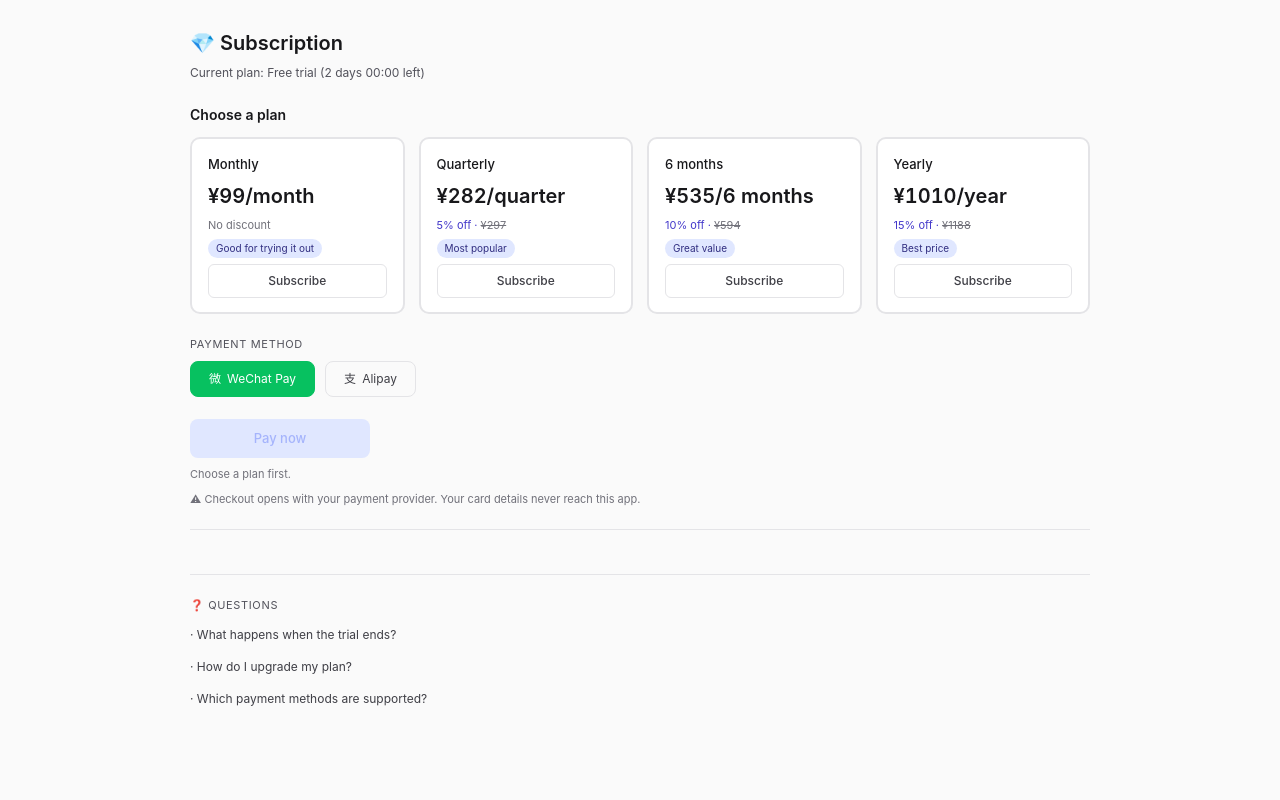
Scenario: paying › stops waiting when asked, and closes the checkout window with it
Click the 1st button "Subscribe".
click(297, 281)  # box [208,264,386,298]
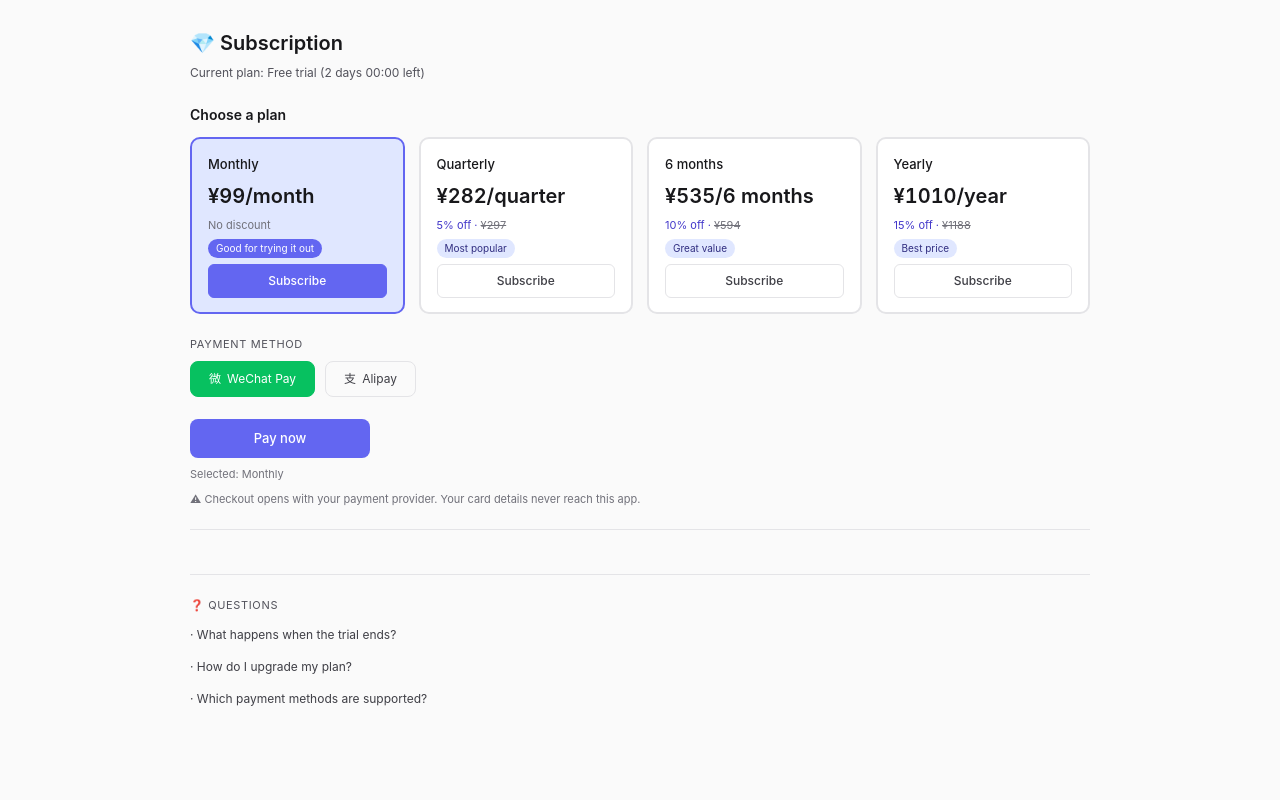
Click the button with test id "pay-now".
click(280, 438)  # box [190,418,370,458]
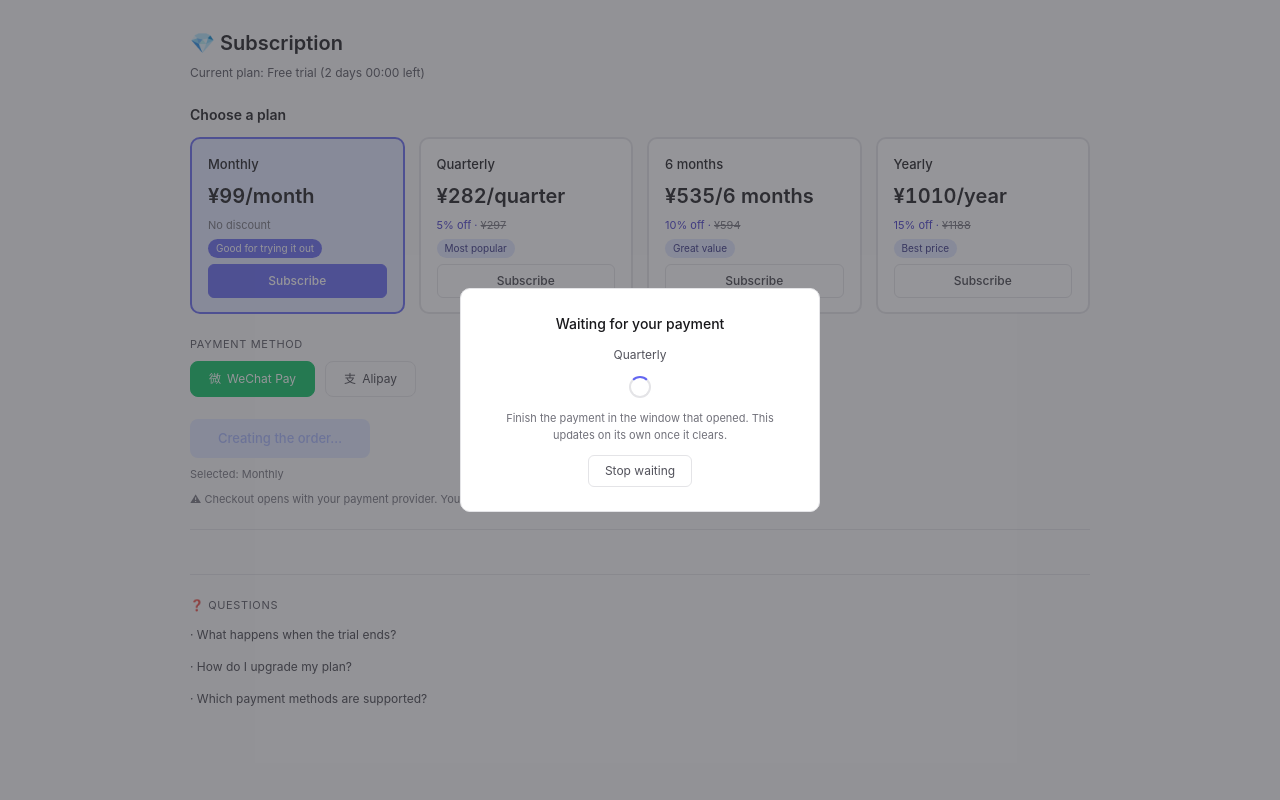
Expected: the dialog with test id "payment-dialog" is shown
Click the button with test id "payment-cancel".
click(640, 471)  # box [588,455,692,487]
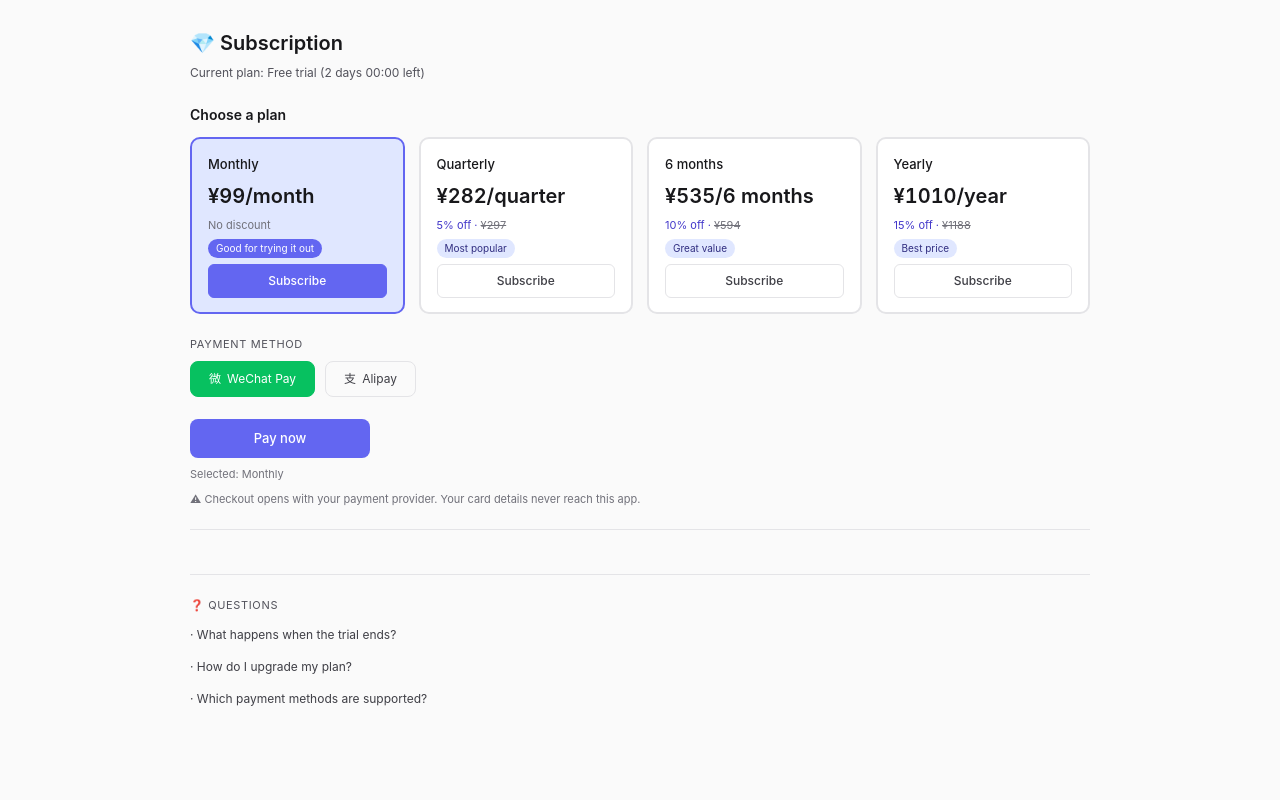
Expected: the dialog with test id "payment-dialog" is gone
